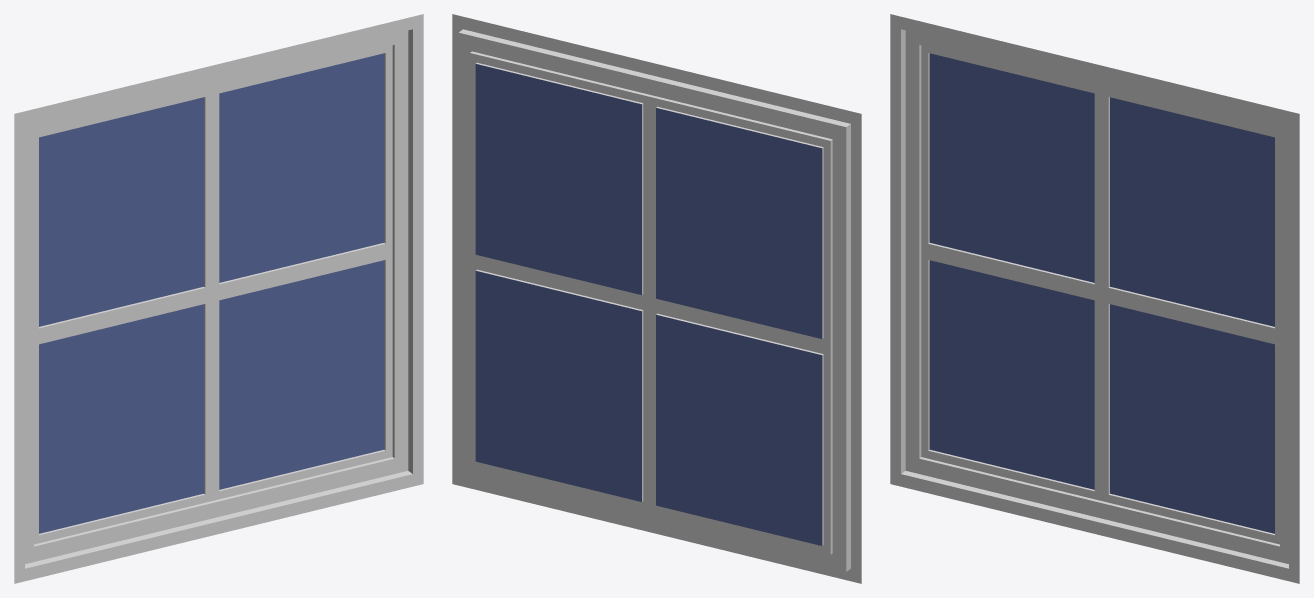
File: kekri_suomitalo_ikkuna.fbx
3 renders of one model, left to right at view 1: azimuth 30°, elevation 25°; view 2: azimuth 150°, elevation 25°; view 3: azimuth 330°, elevation 25°, orthographic.
Visible parts, largest first — view 1: suomitalo_ikkuna.002; view 2: suomitalo_ikkuna.002; view 3: suomitalo_ikkuna.002.
Boxes of the visible parts, x1,y1,x2,y2 form: suomitalo_ikkuna.002: (14, 14, 423, 583); suomitalo_ikkuna.002: (452, 14, 861, 583); suomitalo_ikkuna.002: (890, 14, 1299, 583).
Bounding box in the file's own units: 435 × 477 × 14.94.
